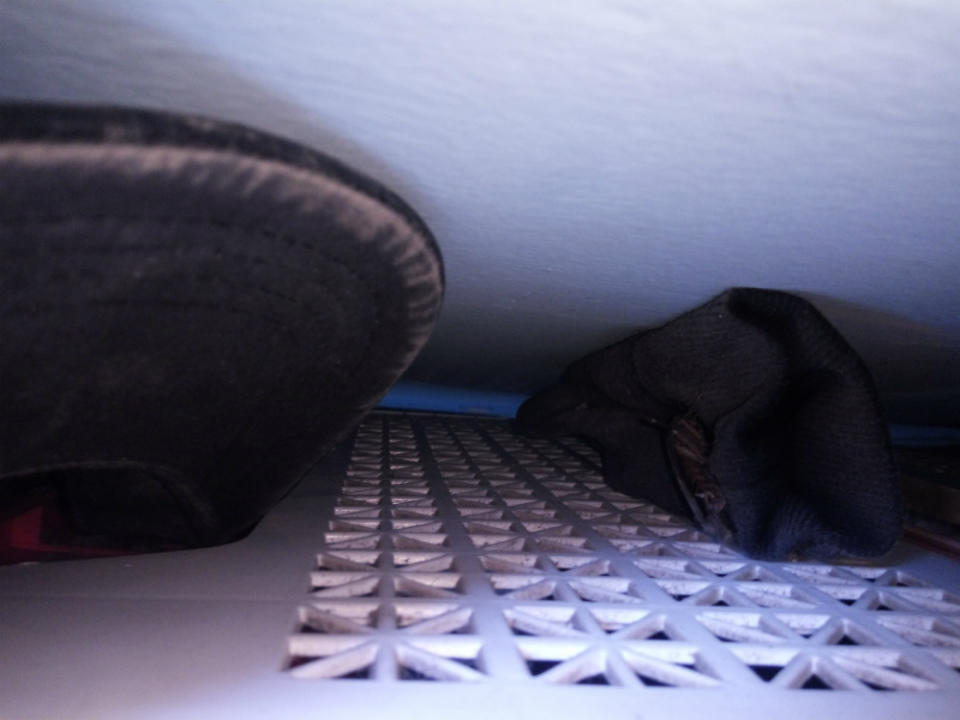cockroach: (611, 395, 738, 546)
